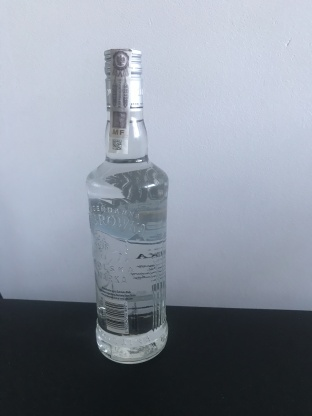nakretka: (101, 43, 146, 114)
